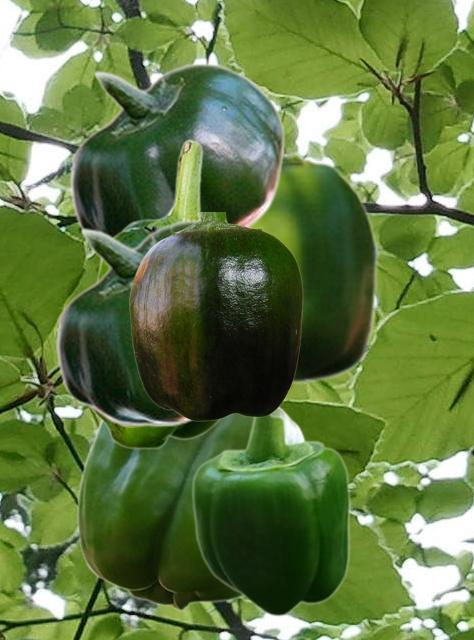bell_pepper: (76, 405, 305, 610), (91, 138, 222, 449), (68, 62, 284, 234), (129, 212, 302, 420), (191, 413, 350, 617), (54, 219, 200, 426), (254, 148, 378, 388)
